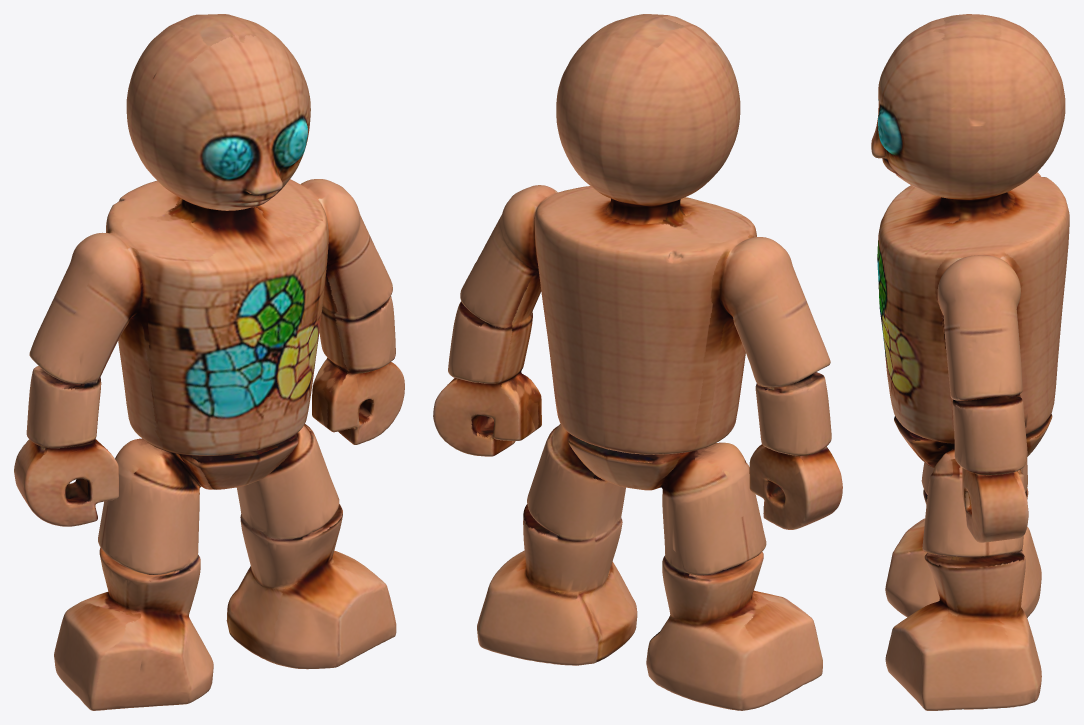
Rendered from goodcase0304_217.glb.
3 renders of one model, left to right at view 1: azimuth 30°, elevation 25°; view 2: azimuth 150°, elevation 25°; view 3: azimuth 270°, elevation 25°, orthographic. The views are drawn at different scales.
Visible parts, largest first — view 1: object.001; view 2: object.001; view 3: object.001.
Part boxes in pixels (x1,y1,x2,y2): object.001: (14, 14, 404, 710); object.001: (433, 14, 842, 710); object.001: (871, 14, 1069, 710).
Size of the model in its own units: 0.6524 by 1.02 by 0.2973.
Materials: 1 (1 with a texture image).
